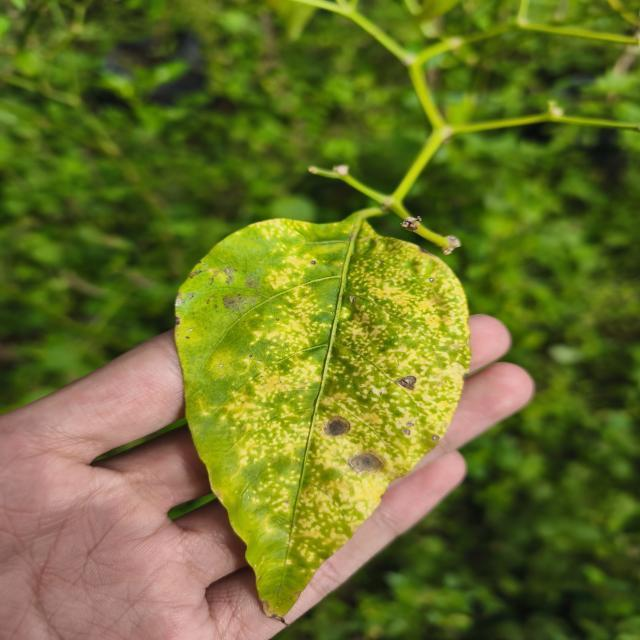Virus Kuning: (171, 210, 472, 624)
